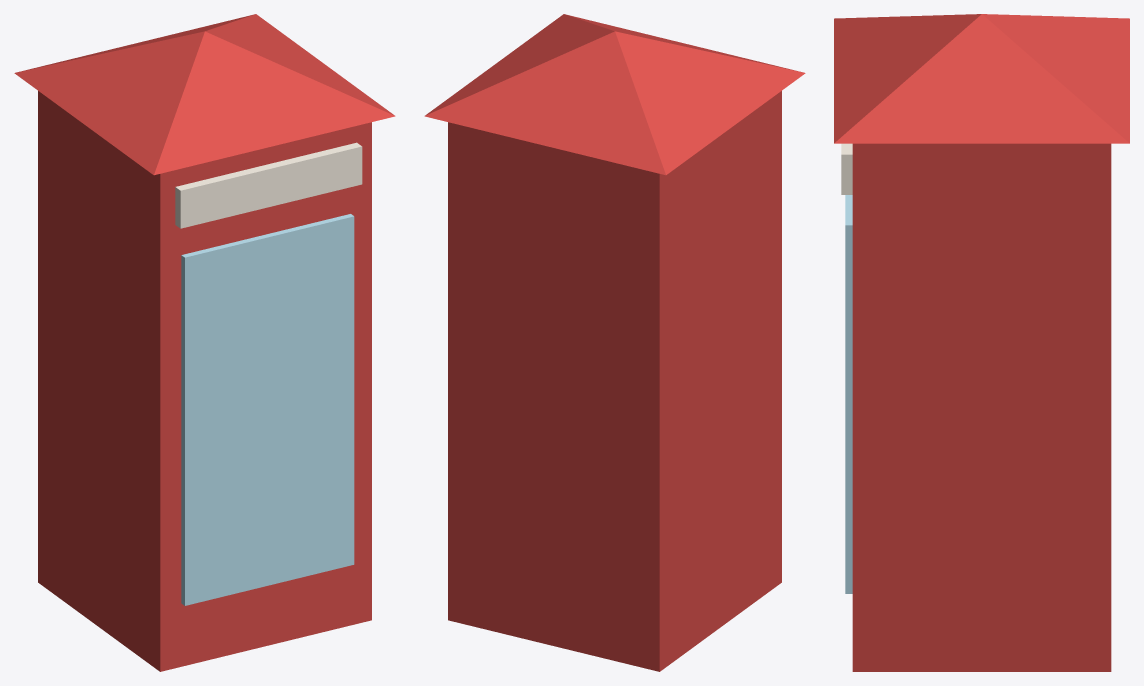
The model's file is prop_phone_booth.glb.
3 views of the same model, side by side, from view 1: azimuth 30°, elevation 25°; view 2: azimuth 150°, elevation 25°; view 3: azimuth 270°, elevation 25° (orthographic). The views are drawn at different scales.
Parts seen in each view (by area): view 1: prop_phone_booth; view 2: prop_phone_booth; view 3: prop_phone_booth.
Part boxes in pixels (x1,y1,x2,y2): prop_phone_booth: (14,14,395,671); prop_phone_booth: (424,14,805,671); prop_phone_booth: (834,14,1129,671).
Size of the model in its own units: 0.08 by 0.18 by 0.08.
